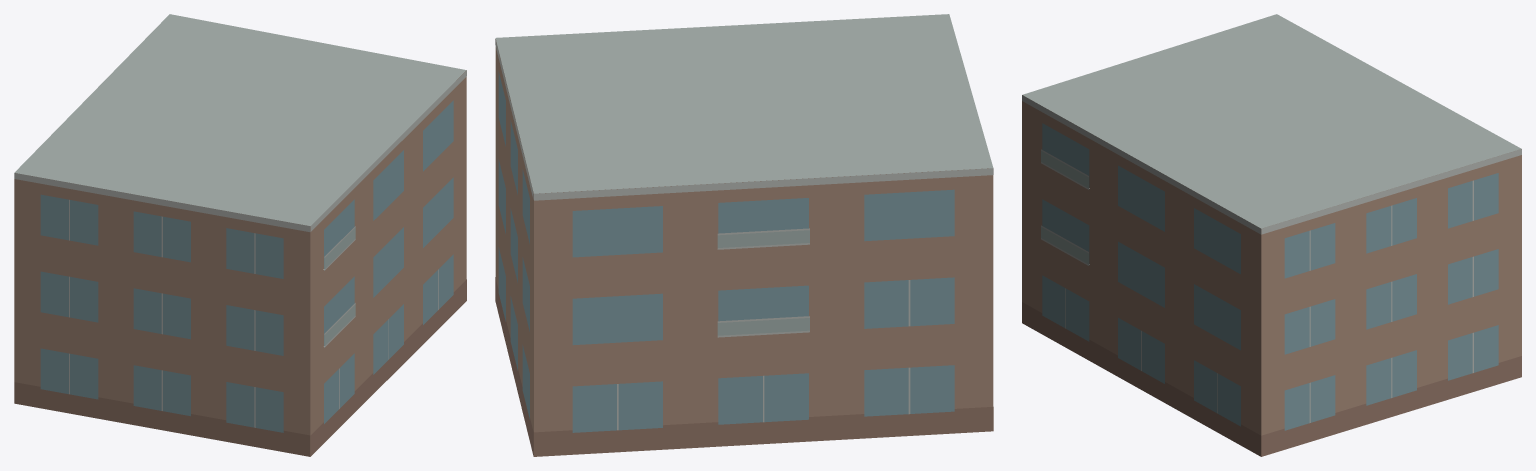
The model's file is survey-upis-33004977.glb.
3 renders of one model, left to right at view 1: azimuth 30°, elevation 25°; view 2: azimuth 150°, elevation 25°; view 3: azimuth 270°, elevation 25°, orthographic. The views are drawn at different scales.
Visible parts, largest first — view 1: survey-upis-33004977.tmp; view 2: survey-upis-33004977.tmp; view 3: survey-upis-33004977.tmp.
Boxes of the visible parts, left/top/right/bottom form: survey-upis-33004977.tmp: left=14, top=14, right=466, bottom=456; survey-upis-33004977.tmp: left=495, top=14, right=993, bottom=456; survey-upis-33004977.tmp: left=1022, top=14, right=1521, bottom=456.
Size of the model in its own units: 18.46 by 9.15 by 18.16.
